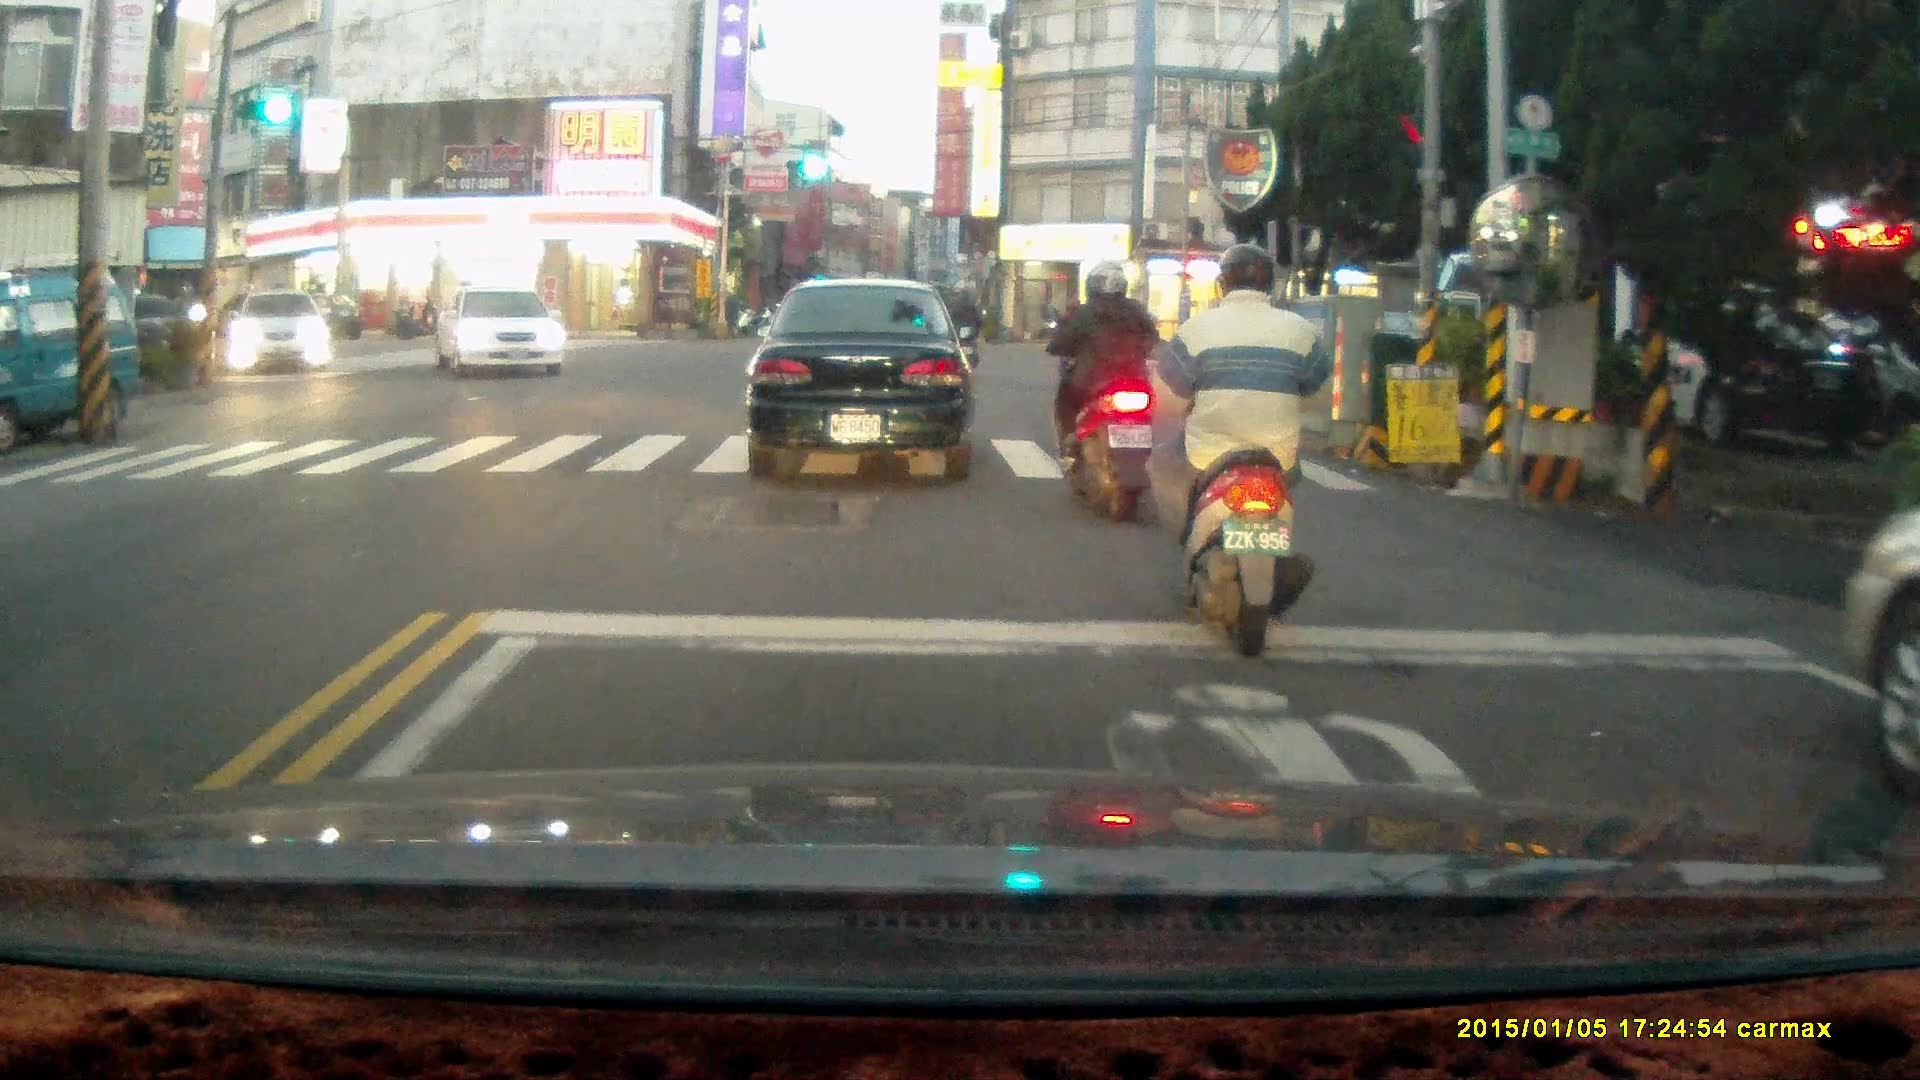rider: (1142, 234, 1335, 639), (1032, 258, 1168, 524), (940, 288, 984, 381)
vehicle: (1551, 277, 1888, 443), (745, 276, 975, 478), (1, 267, 145, 458), (1835, 486, 1920, 797), (435, 289, 569, 378), (227, 291, 335, 378)
